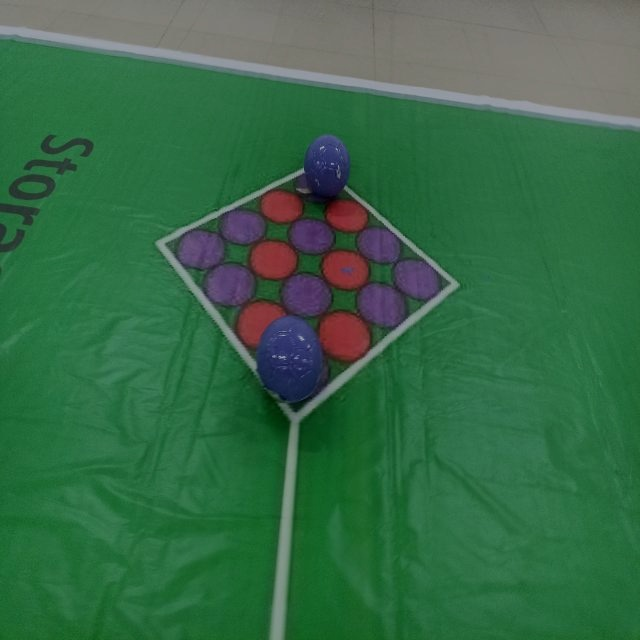purple_ball: (258, 317, 323, 400), (306, 135, 349, 198)
